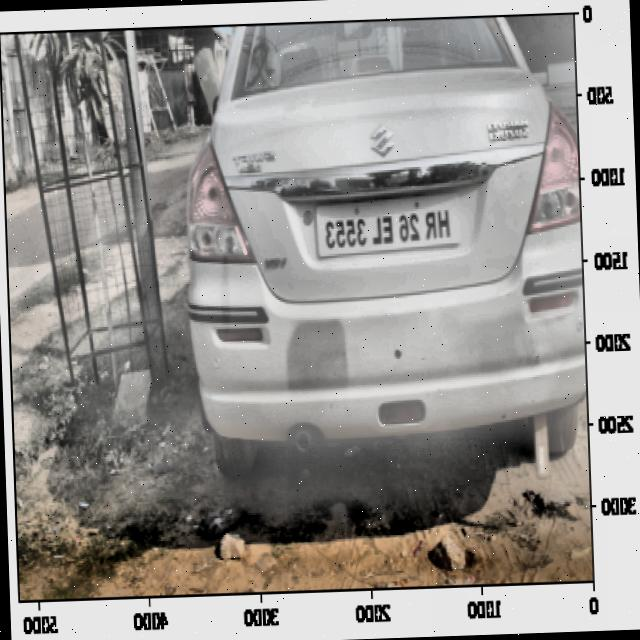license_plate: (318, 197, 457, 258)
